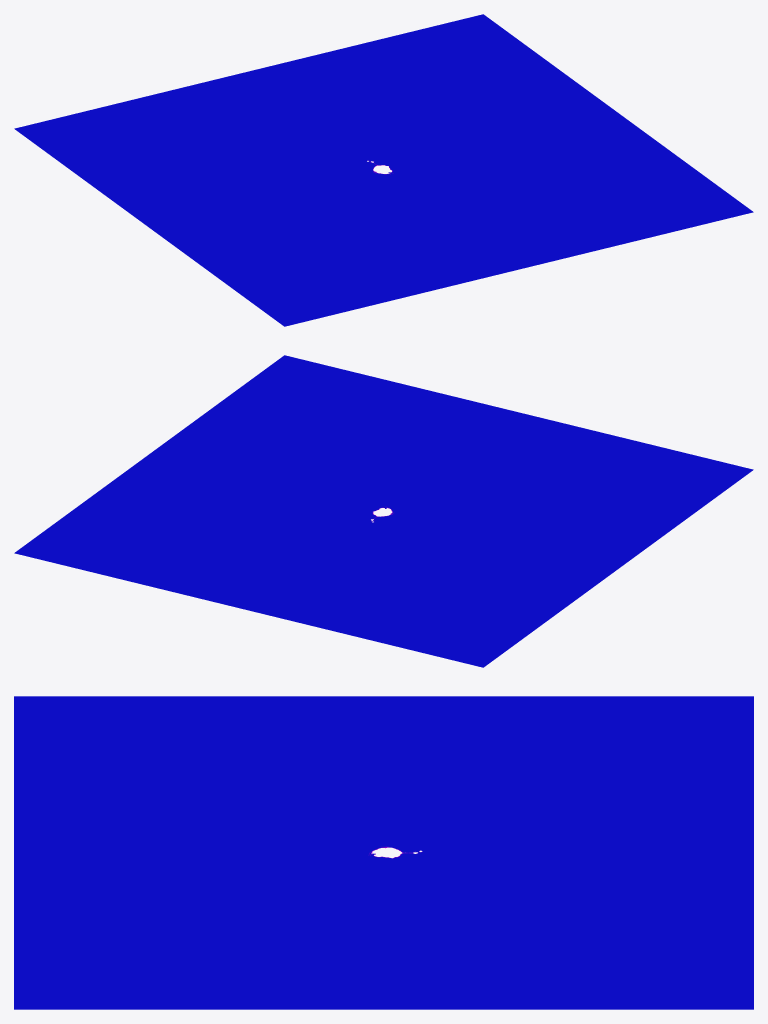
3 views of the same model, one above another, from view 1: azimuth 30°, elevation 25°; view 2: azimuth 150°, elevation 25°; view 3: azimuth 270°, elevation 25° (orthographic). The views are drawn at different scales.
Parts seen in each view (by area): view 1: G:\FFXIV-MapTools\exports\n4t2\bg\ex3\01_nvt_n4\twn\n4t2\bgp; view 2: G:\FFXIV-MapTools\exports\n4t2\bg\ex3\01_nvt_n4\twn\n4t2\bgp; view 3: G:\FFXIV-MapTools\exports\n4t2\bg\ex3\01_nvt_n4\twn\n4t2\bgp.
Part boxes in pixels (bbox=[...]): G:\FFXIV-MapTools\exports\n4t2\bg\ex3\01_nvt_n4\twn\n4t2\bgp: bbox=[14, 14, 753, 326]; G:\FFXIV-MapTools\exports\n4t2\bg\ex3\01_nvt_n4\twn\n4t2\bgp: bbox=[14, 355, 753, 667]; G:\FFXIV-MapTools\exports\n4t2\bg\ex3\01_nvt_n4\twn\n4t2\bgp: bbox=[14, 696, 753, 1009].
Size of the model in its own units: 7000 by 0.0312 by 6988.
